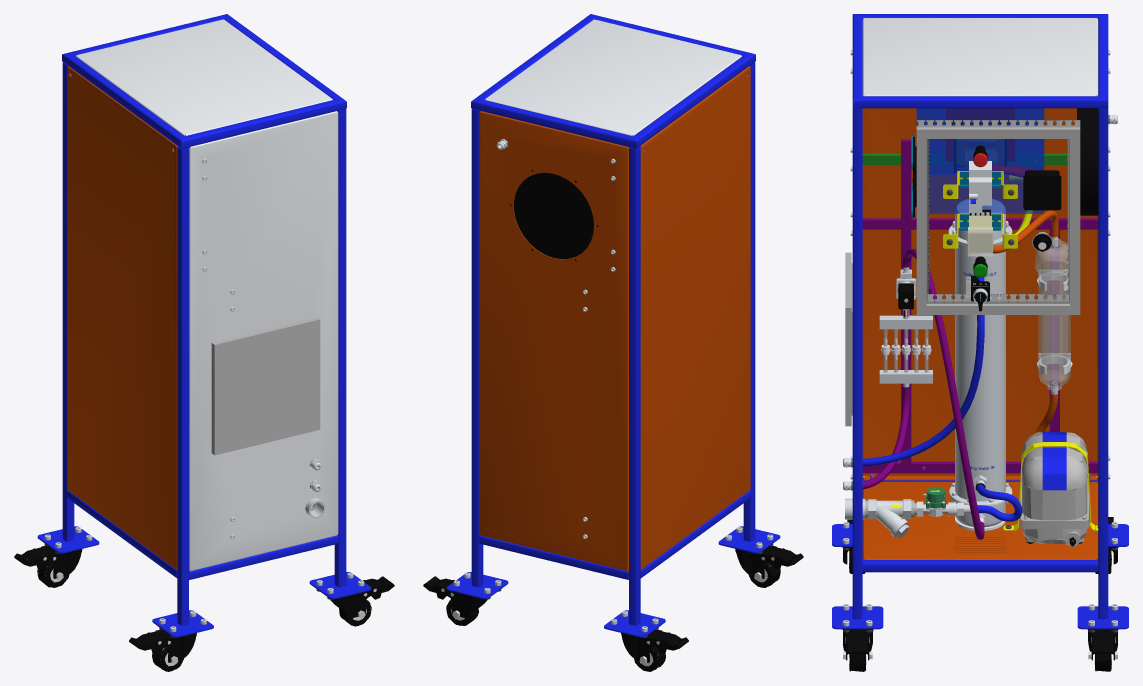
Rendered from Ozone_Generator_AR_Animated_Draco.glb.
The picture shows the model from 3 angles, left to right: view 1: azimuth 30°, elevation 25°; view 2: azimuth 150°, elevation 25°; view 3: azimuth 270°, elevation 25°; orthographic projection. The views are drawn at different scales.
Parts seen in each view (by area): view 1: AR_GRP_04_Front_Piping_Header, AR_GRP_06_Vessel_Body_Left, AR_GRP_03_Top_Manifold_Center, AR_GRP_00_Base_Skid_Anchor, AR_GRP_05_Rear_Manifold_Support, AR_GRP_01_Top_Valve_Left, AR_GRP_02_Top_Valve_Right; view 2: AR_GRP_05_Rear_Manifold_Support, AR_GRP_06_Vessel_Body_Left, AR_GRP_03_Top_Manifold_Center, AR_GRP_00_Base_Skid_Anchor, AR_GRP_04_Front_Piping_Header, AR_GRP_01_Top_Valve_Left, AR_GRP_02_Top_Valve_Right; view 3: AR_GRP_06_Vessel_Body_Left, AR_GRP_03_Top_Manifold_Center, AR_GRP_08_Vessel_Body_Center, AR_GRP_05_Rear_Manifold_Support, AR_GRP_04_Front_Piping_Header, AR_GRP_02_Top_Valve_Right, AR_GRP_01_Top_Valve_Left, AR_GRP_07_Vessel_Body_Right, AR_GRP_00_Base_Skid_Anchor.
Boxes of the visible parts, x1,y1,x2,y2 form: AR_GRP_04_Front_Piping_Header: [152, 109, 371, 637]; AR_GRP_06_Vessel_Body_Left: [66, 66, 177, 578]; AR_GRP_03_Top_Manifold_Center: [64, 14, 346, 148]; AR_GRP_00_Base_Skid_Anchor: [14, 545, 394, 671]; AR_GRP_05_Rear_Manifold_Support: [37, 62, 99, 553]; AR_GRP_01_Top_Valve_Left: [62, 54, 207, 271]; AR_GRP_02_Top_Valve_Right: [224, 14, 345, 100]; AR_GRP_05_Rear_Manifold_Support: [446, 109, 665, 637]; AR_GRP_06_Vessel_Body_Left: [640, 66, 751, 578]; AR_GRP_03_Top_Manifold_Center: [471, 14, 753, 261]; AR_GRP_00_Base_Skid_Anchor: [423, 545, 803, 671]; AR_GRP_04_Front_Piping_Header: [627, 62, 780, 553]; AR_GRP_01_Top_Valve_Left: [610, 54, 755, 271]; AR_GRP_02_Top_Valve_Right: [472, 14, 593, 149]; AR_GRP_06_Vessel_Body_Left: [862, 108, 1098, 482]; AR_GRP_03_Top_Manifold_Center: [852, 14, 1108, 220]; AR_GRP_08_Vessel_Body_Center: [862, 199, 1098, 559]; AR_GRP_05_Rear_Manifold_Support: [992, 108, 1128, 632]; AR_GRP_04_Front_Piping_Header: [832, 108, 984, 632]; AR_GRP_02_Top_Valve_Right: [852, 96, 1117, 314]; AR_GRP_01_Top_Valve_Left: [850, 14, 1110, 174]; AR_GRP_07_Vessel_Body_Right: [862, 256, 1098, 572]; AR_GRP_00_Base_Skid_Anchor: [842, 517, 1118, 671].
Bounding box in the file's own units: 0.6197 × 1.22 × 0.58.
Materials: 44 (2 with a texture image).
